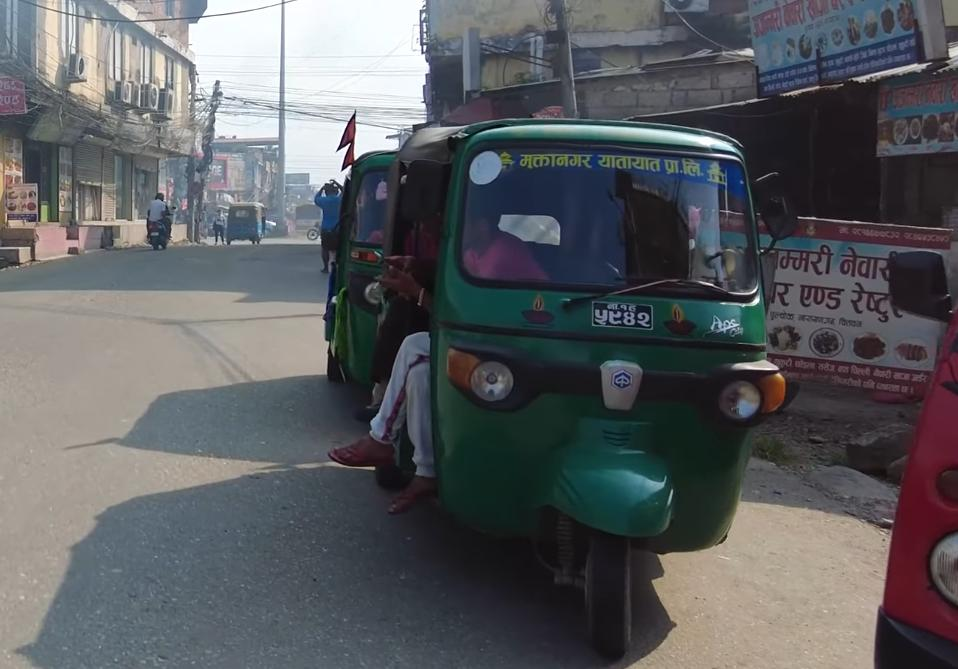auto_rickshaw: (363, 105, 788, 658), (321, 143, 408, 392), (221, 198, 267, 246)
